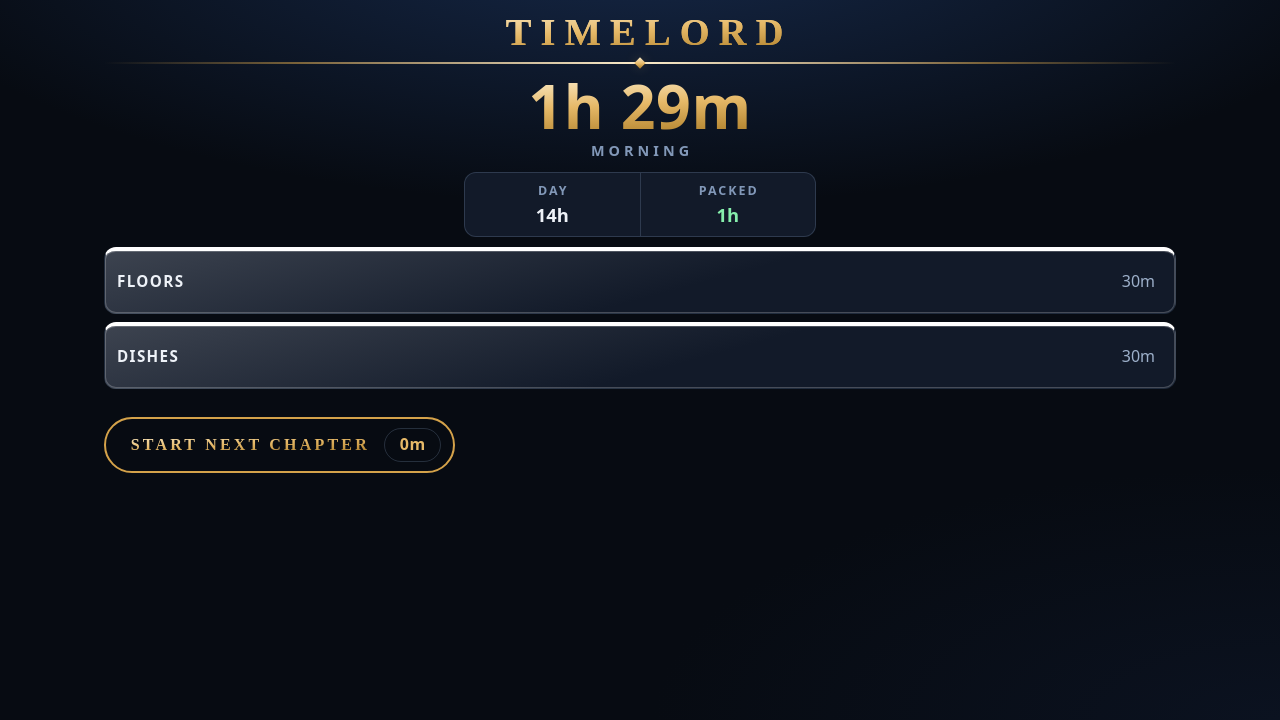
Test: Today optimistic Complete and Skip › removes the item from the open list before completeBlock resolves
Click the button "Floors 30m".
click(151, 281)  # box [117,259,1155,303]
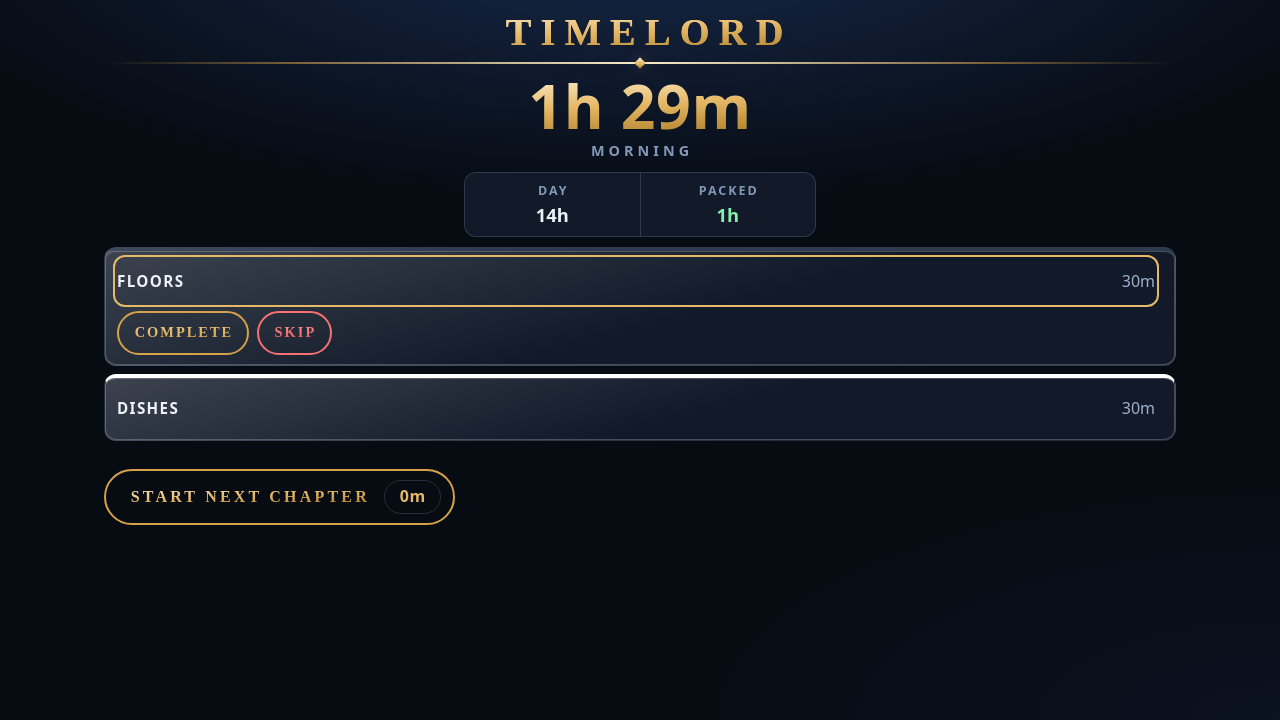
Click the button "Complete".
click(183, 333)  # box [117,311,249,355]
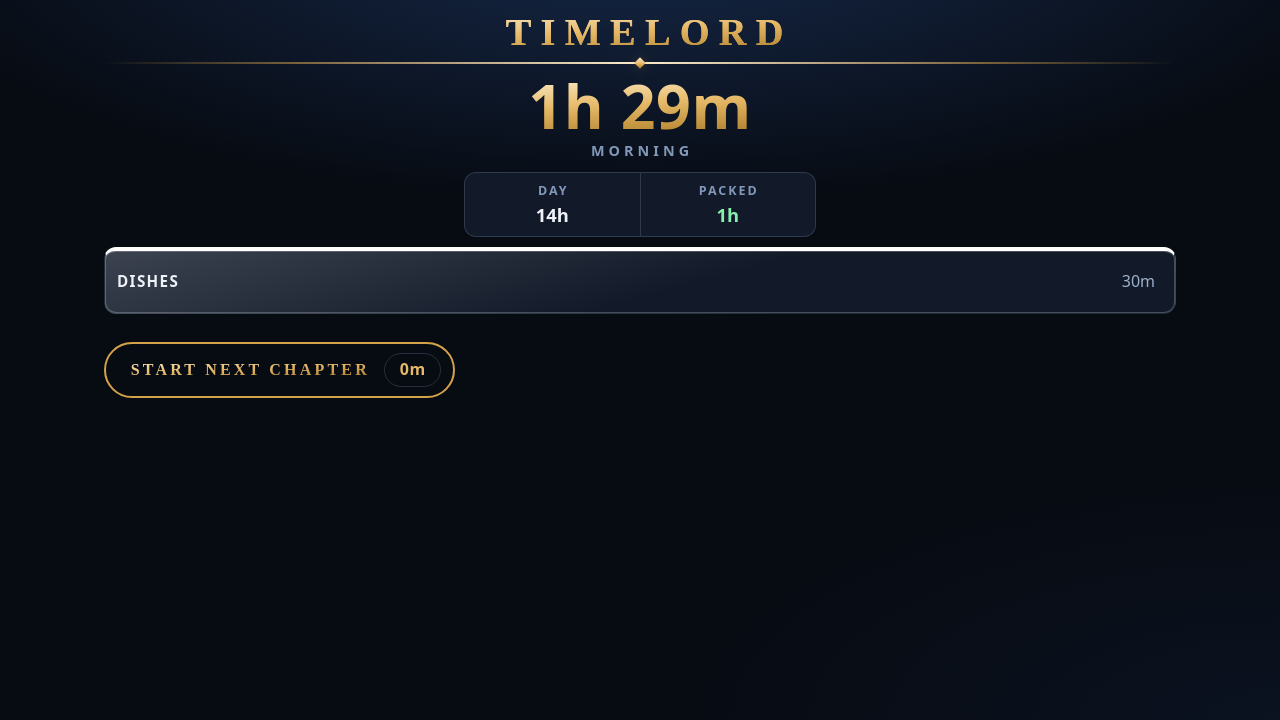
Expected: the button "Dishes 30m" is shown, [117,259,1155,303]
Result: the button "Floors" is gone
